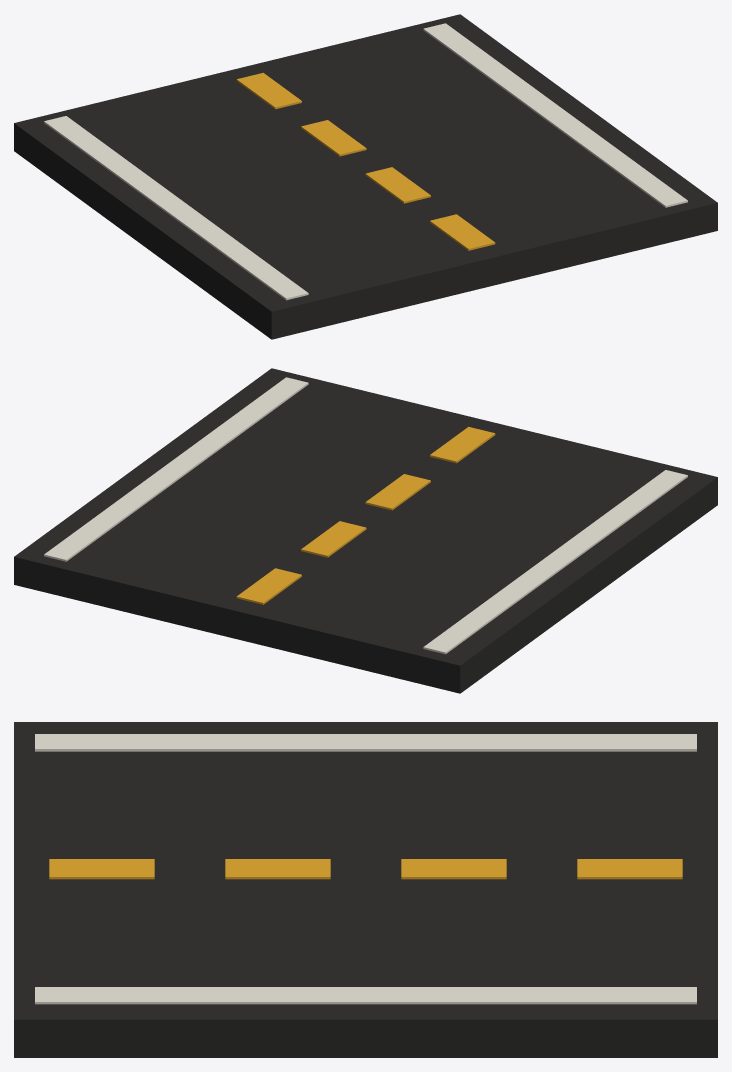
File: road.glb
3 renders of one model, top to bottom at view 1: azimuth 30°, elevation 25°; view 2: azimuth 150°, elevation 25°; view 3: azimuth 270°, elevation 25°, orthographic. The views are drawn at different scales.
Parts seen in each view (by area): view 1: asphalt_slab, edge_line_right, edge_line_left, center_line_dash_2, center_line_dash_3, center_line_dash_1, center_line_dash_4; view 2: asphalt_slab, edge_line_right, edge_line_left, center_line_dash_2, center_line_dash_3, center_line_dash_1, center_line_dash_4; view 3: asphalt_slab, edge_line_left, edge_line_right, center_line_dash_1, center_line_dash_2, center_line_dash_3, center_line_dash_4.
Boxes of the visible parts, x1=… form: asphalt_slab: x1=14, y1=14, x2=717, y2=339; edge_line_right: x1=423, y1=23, x2=687, y2=207; edge_line_left: x1=44, y1=116, x2=308, y2=300; center_line_dash_2: x1=301, y1=120, x2=366, y2=156; center_line_dash_3: x1=365, y1=167, x2=430, y2=203; center_line_dash_1: x1=236, y1=72, x2=301, y2=109; center_line_dash_4: x1=430, y1=214, x2=495, y2=250; asphalt_slab: x1=14, y1=368, x2=717, y2=693; edge_line_right: x1=44, y1=377, x2=308, y2=561; edge_line_left: x1=423, y1=470, x2=687, y2=654; center_line_dash_2: x1=301, y1=521, x2=366, y2=557; center_line_dash_3: x1=365, y1=474, x2=430, y2=510; center_line_dash_1: x1=236, y1=568, x2=301, y2=604; center_line_dash_4: x1=430, y1=426, x2=495, y2=463; asphalt_slab: x1=14, y1=722, x2=717, y2=1057; edge_line_left: x1=35, y1=734, x2=696, y2=751; edge_line_right: x1=35, y1=987, x2=696, y2=1004; center_line_dash_1: x1=577, y1=859, x2=682, y2=879; center_line_dash_2: x1=401, y1=859, x2=506, y2=879; center_line_dash_3: x1=225, y1=859, x2=330, y2=879; center_line_dash_4: x1=49, y1=859, x2=154, y2=879.
Size of the model in its own units: 2 by 0.129 by 2.
